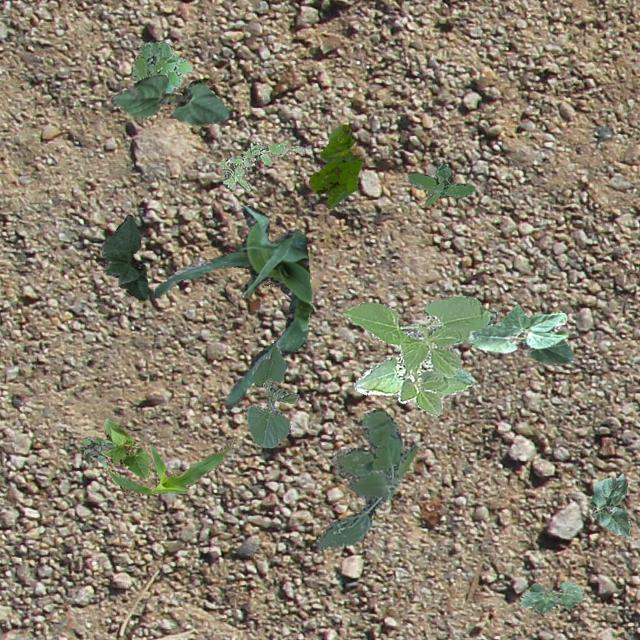crop: (152, 204, 312, 408), (342, 294, 496, 416), (100, 436, 234, 494), (467, 304, 572, 364), (110, 74, 232, 124), (245, 342, 298, 446), (100, 213, 146, 300), (98, 418, 148, 478), (590, 472, 630, 536), (520, 580, 582, 612)
weed: (314, 408, 416, 548), (308, 124, 360, 208), (218, 140, 304, 190), (130, 40, 190, 92), (406, 162, 474, 205), (78, 434, 112, 462)
